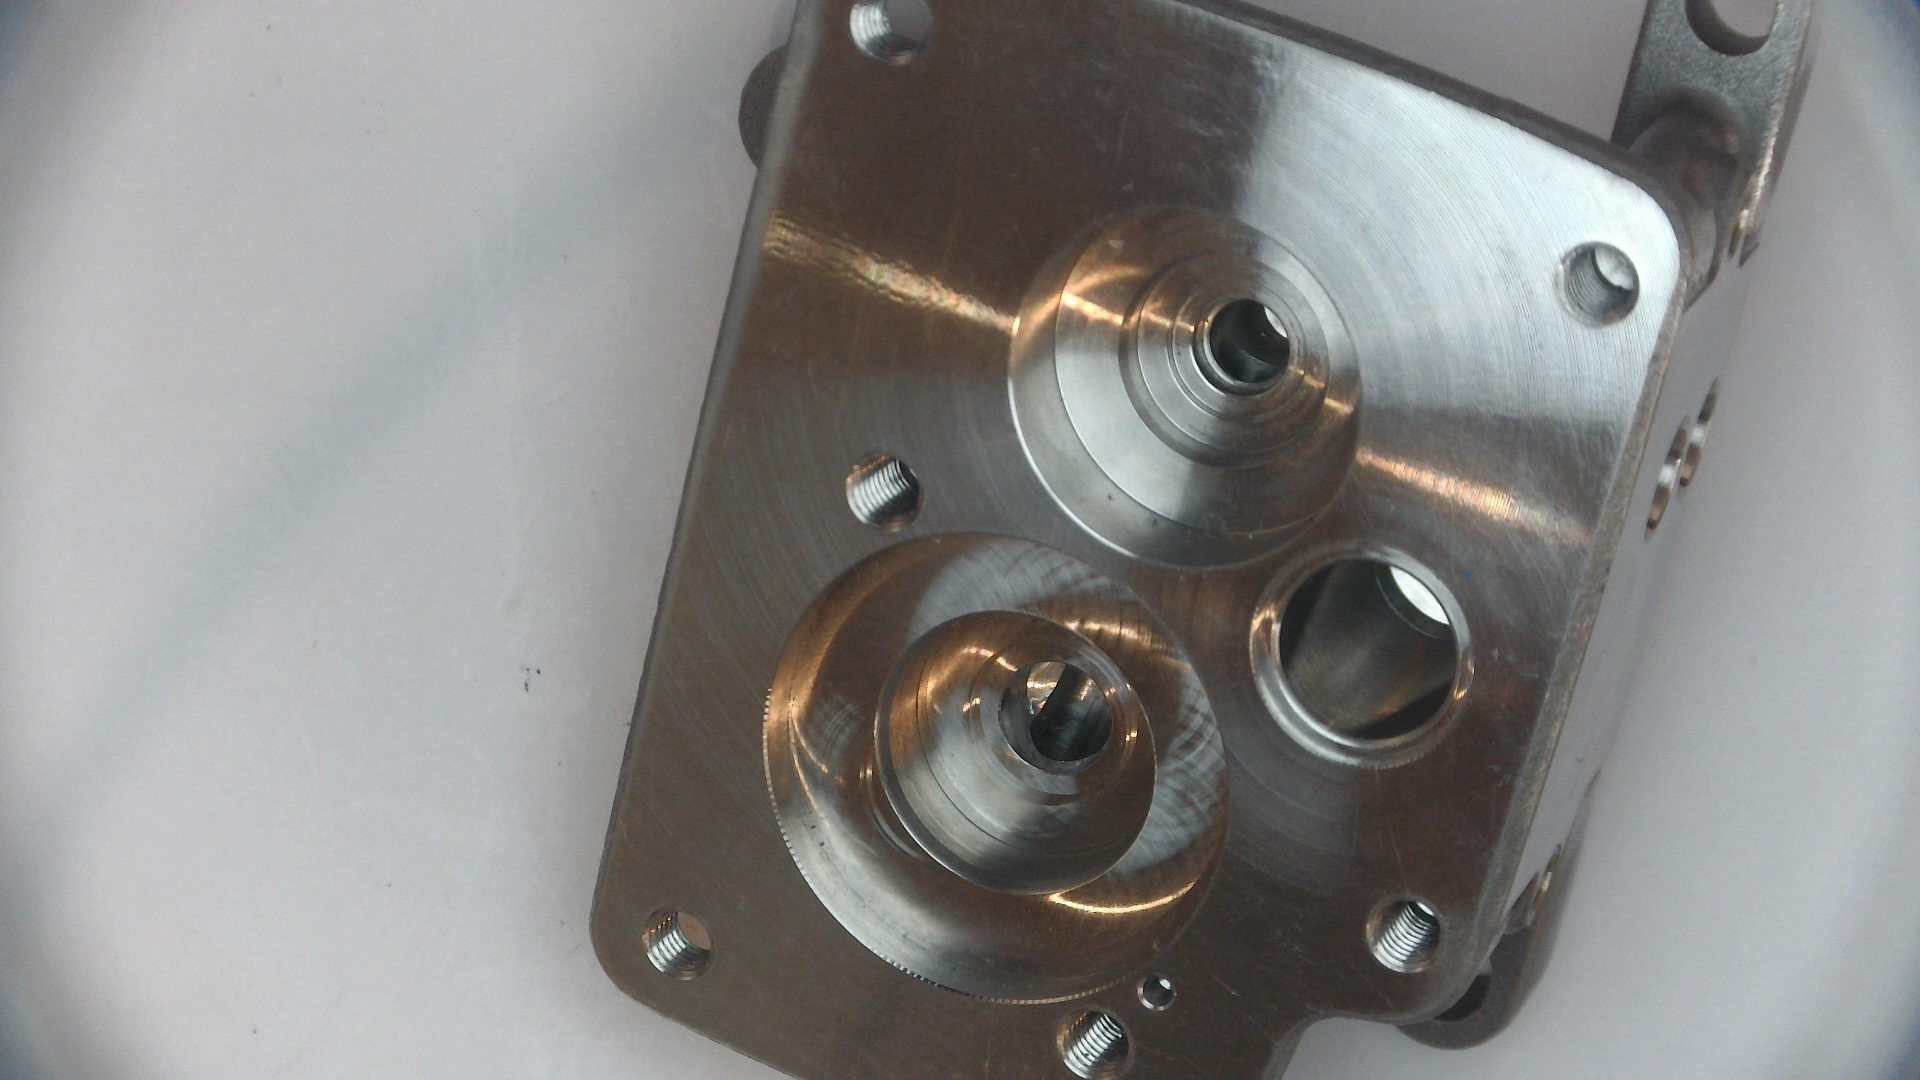thread_presence: (1561, 244, 1636, 320), (843, 454, 919, 529), (1367, 897, 1441, 971), (642, 909, 709, 982), (1059, 1007, 1129, 1077), (848, 1, 920, 65)
